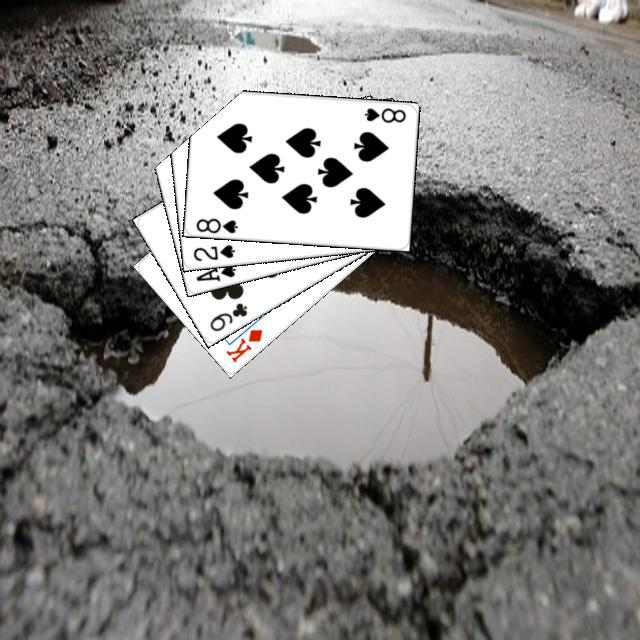2s: (188, 240, 236, 263)
8s: (191, 213, 239, 235), (359, 103, 408, 124)
9c: (205, 298, 249, 333)
As: (191, 259, 237, 283)
Kd: (221, 324, 264, 364)
